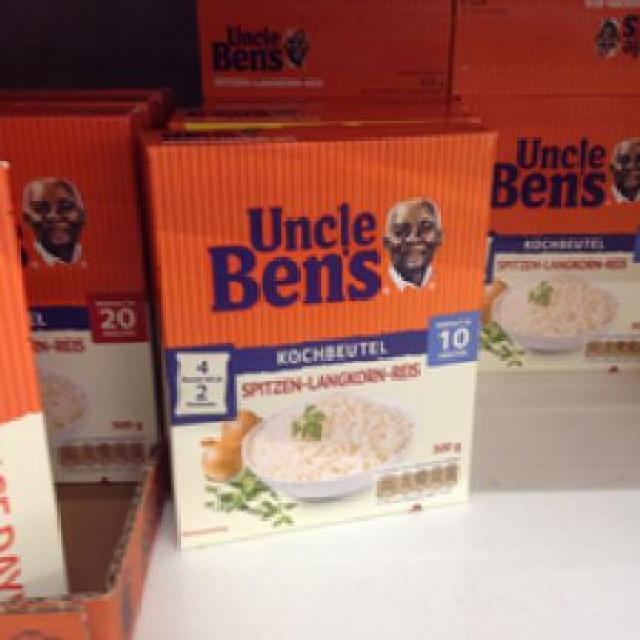Rice: (134, 120, 497, 549), (0, 97, 152, 483), (462, 95, 638, 372)
